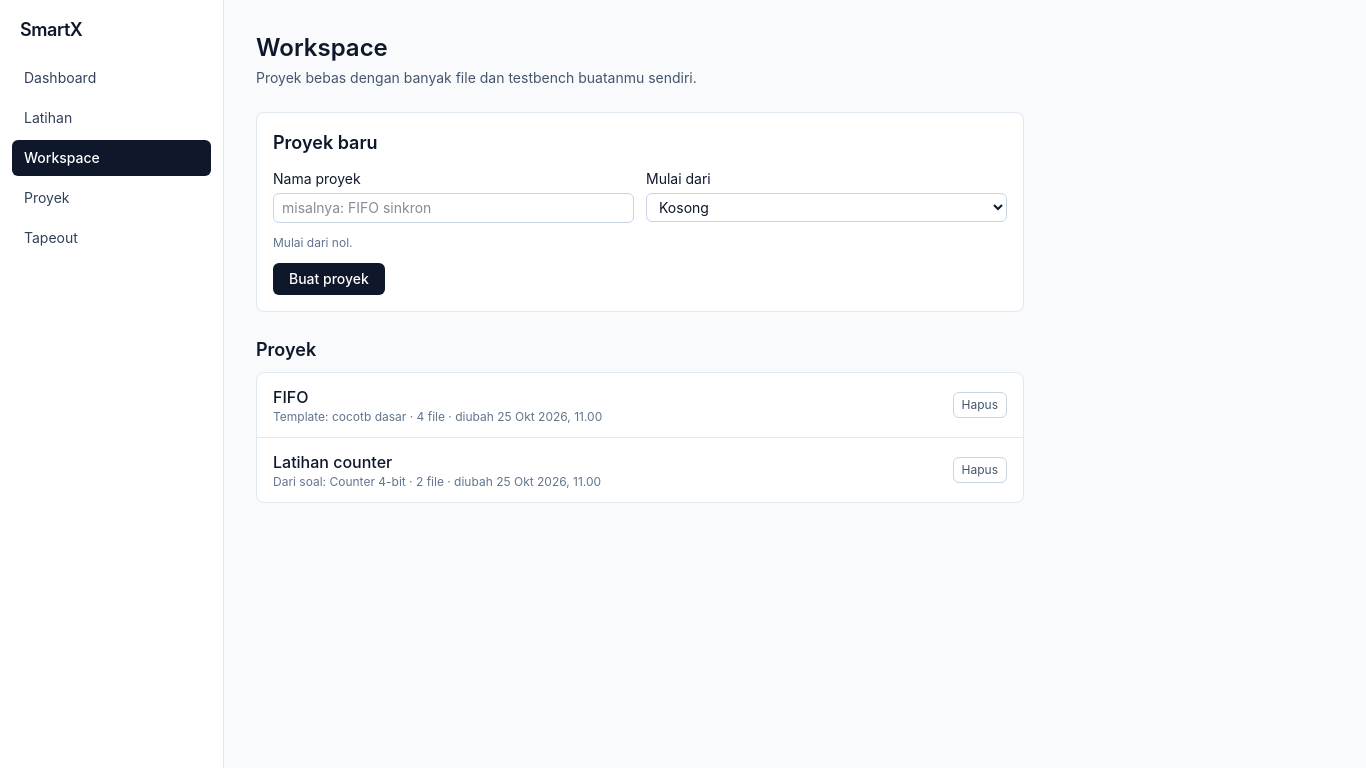
Test: WorkspaceList › creates a project from a template and opens it
Type "Counterku" into the field labelled "Nama proyek". click: coordinates (454, 208)
box: x1=273 y1=193 x2=634 y2=223
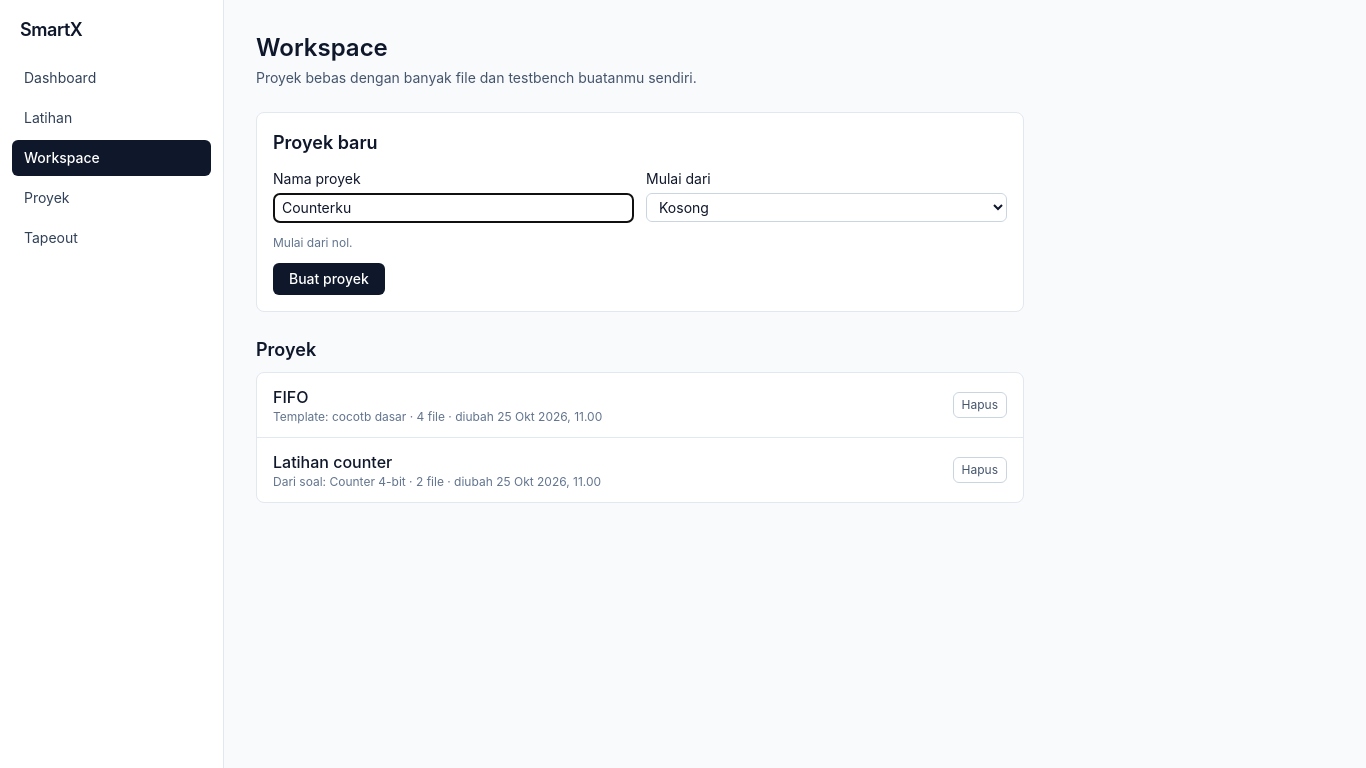
Select "cocotb dasar" in the dropdown labelled "Mulai dari". click: coordinates (826, 208)
box: x1=646 y1=193 x2=1007 y2=222
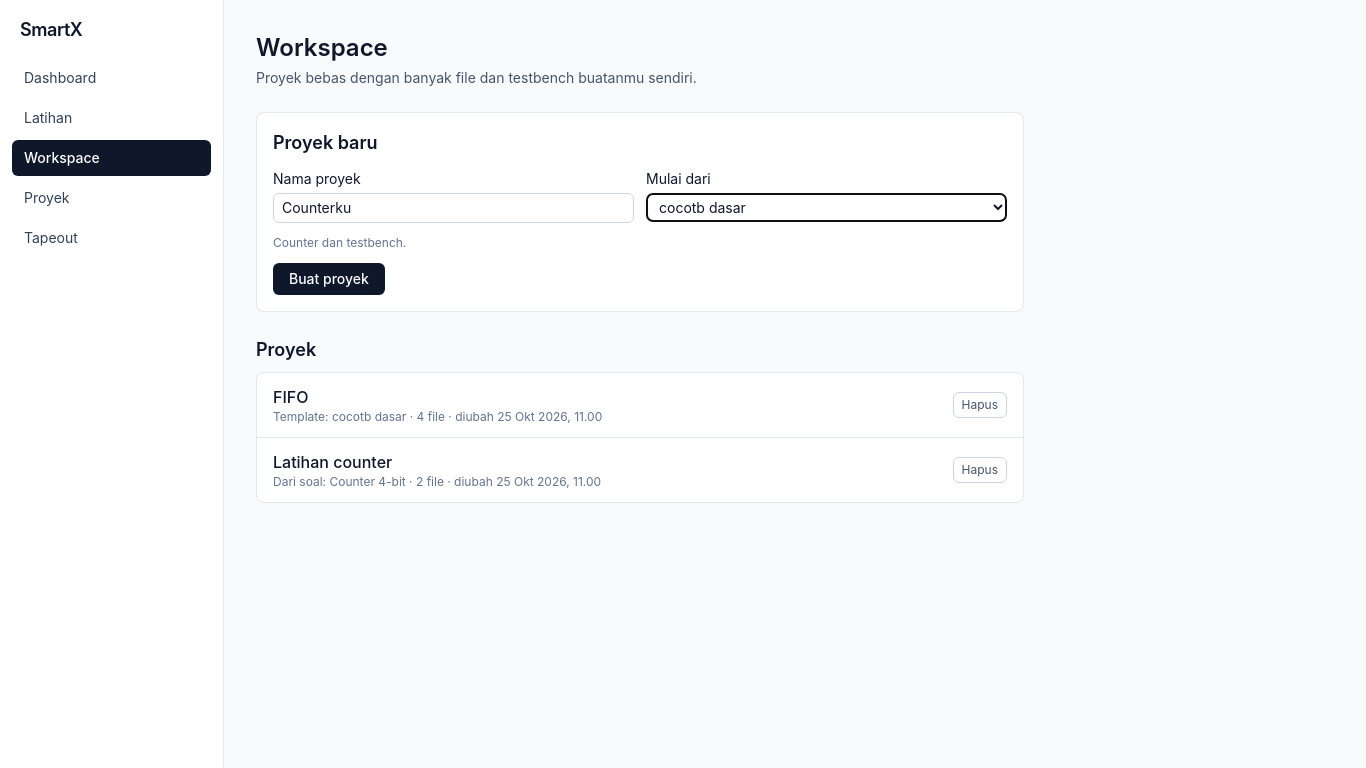
Click the button "Buat proyek". click: coordinates (329, 279)
box: x1=273 y1=263 x2=385 y2=295
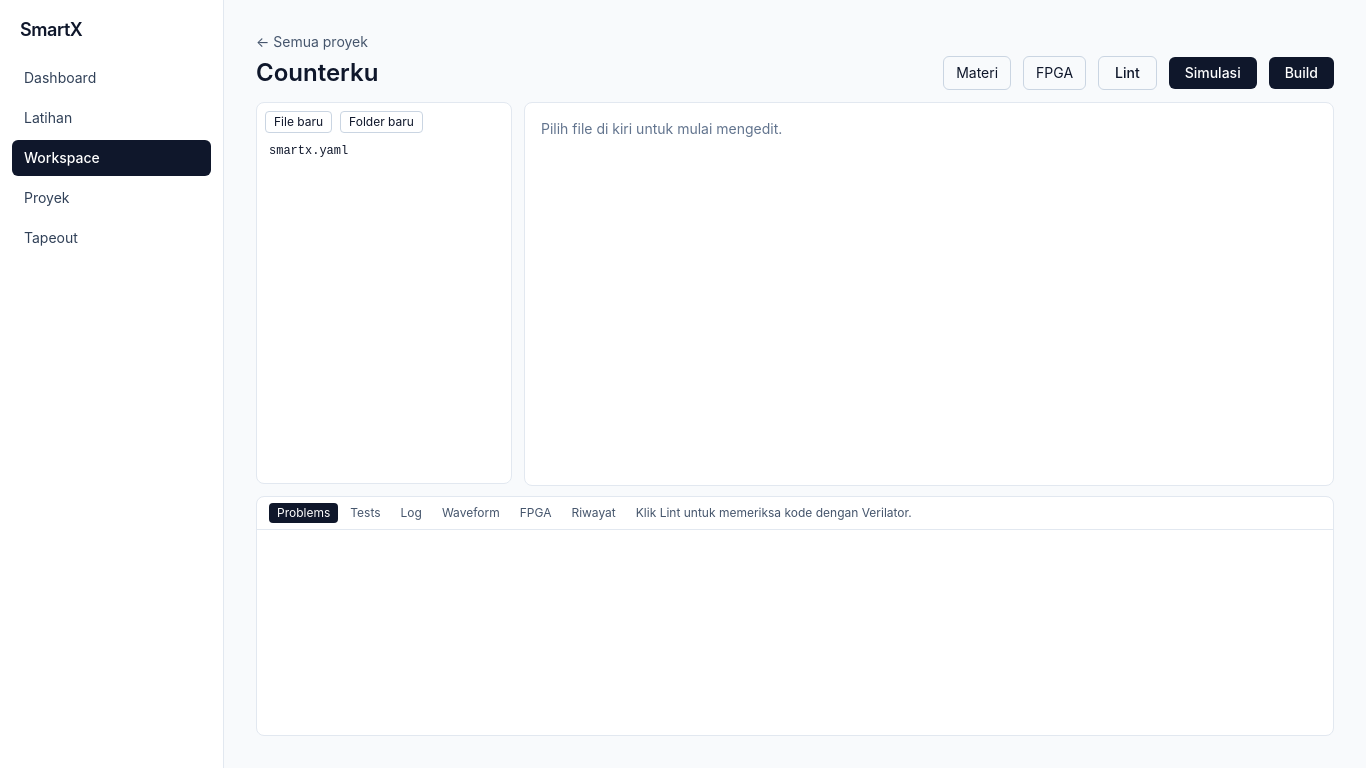
Check: the heading "Counterku" is shown, box x1=256 y1=57 x2=378 y2=89
